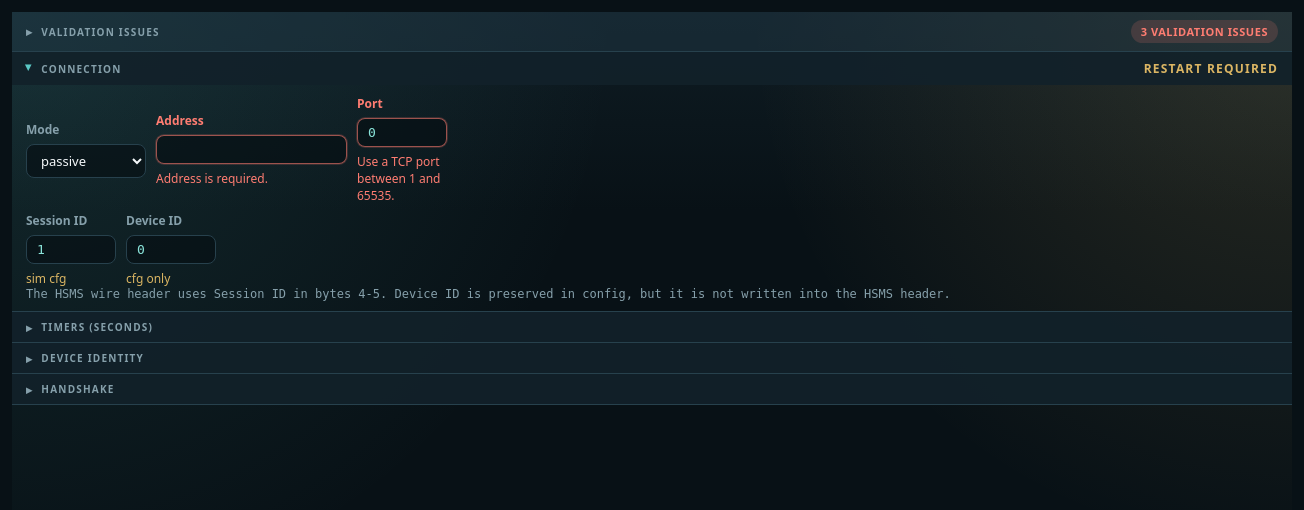
Test: HsmsTab › shows validation issues and restart required indicator
// Validation issues section exists - expand it
Step 1. Click the text "Validation Issues" → (101, 32), box [41,24,160,38]
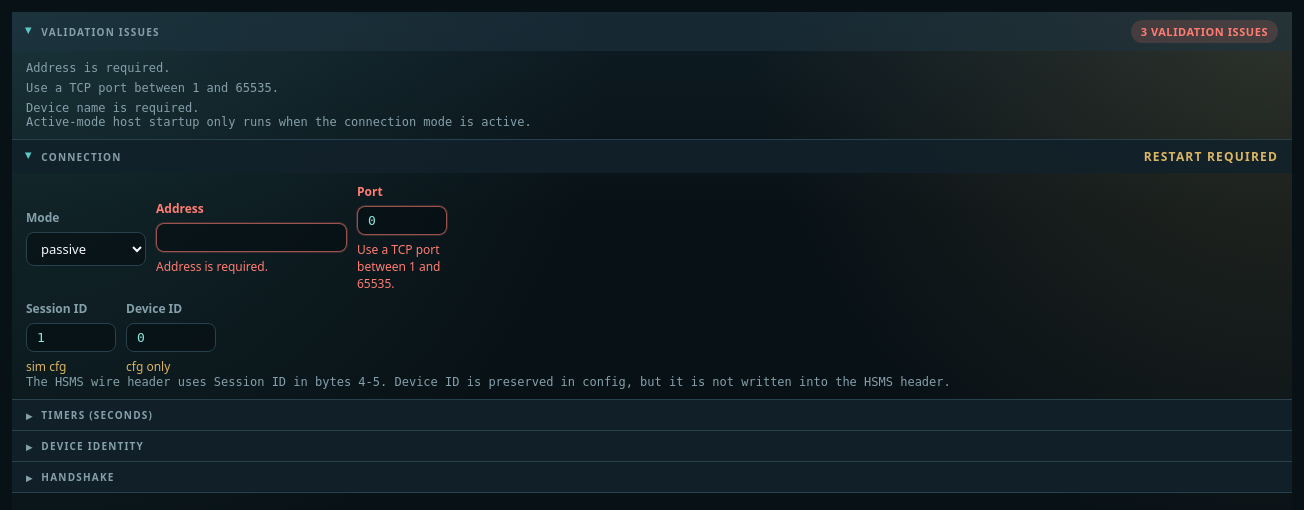
Expected: the text "restart required" is shown, [1144,148,1278,165]
Expected: the 1st text "Address is required." is shown, [26,61,170,75]
Expected: the 1st text "Use a TCP port between 1 and 65535." is shown, [26,81,279,95]
